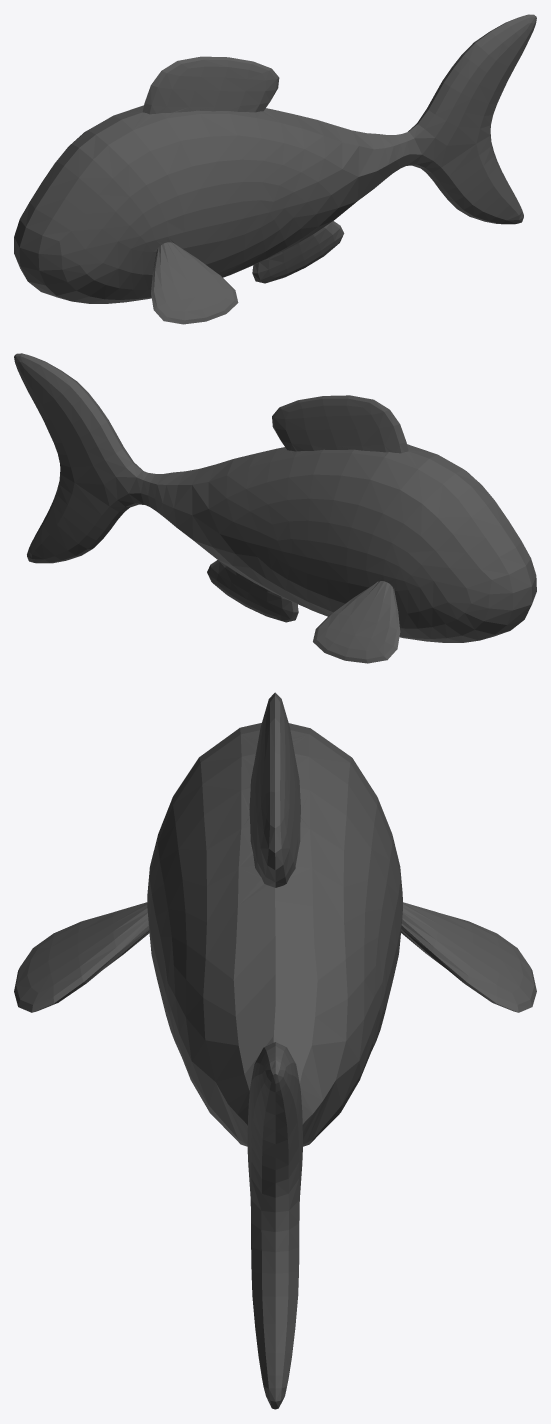
File: Fish.glb
3 views of the same model, one above another, from view 1: azimuth 30°, elevation 25°; view 2: azimuth 150°, elevation 25°; view 3: azimuth 270°, elevation 25° (orthographic). The views are drawn at different scales.
Bounding box in the file's own units: 0.4985 × 0.2264 × 0.2525.
1 material, 1 textured.
